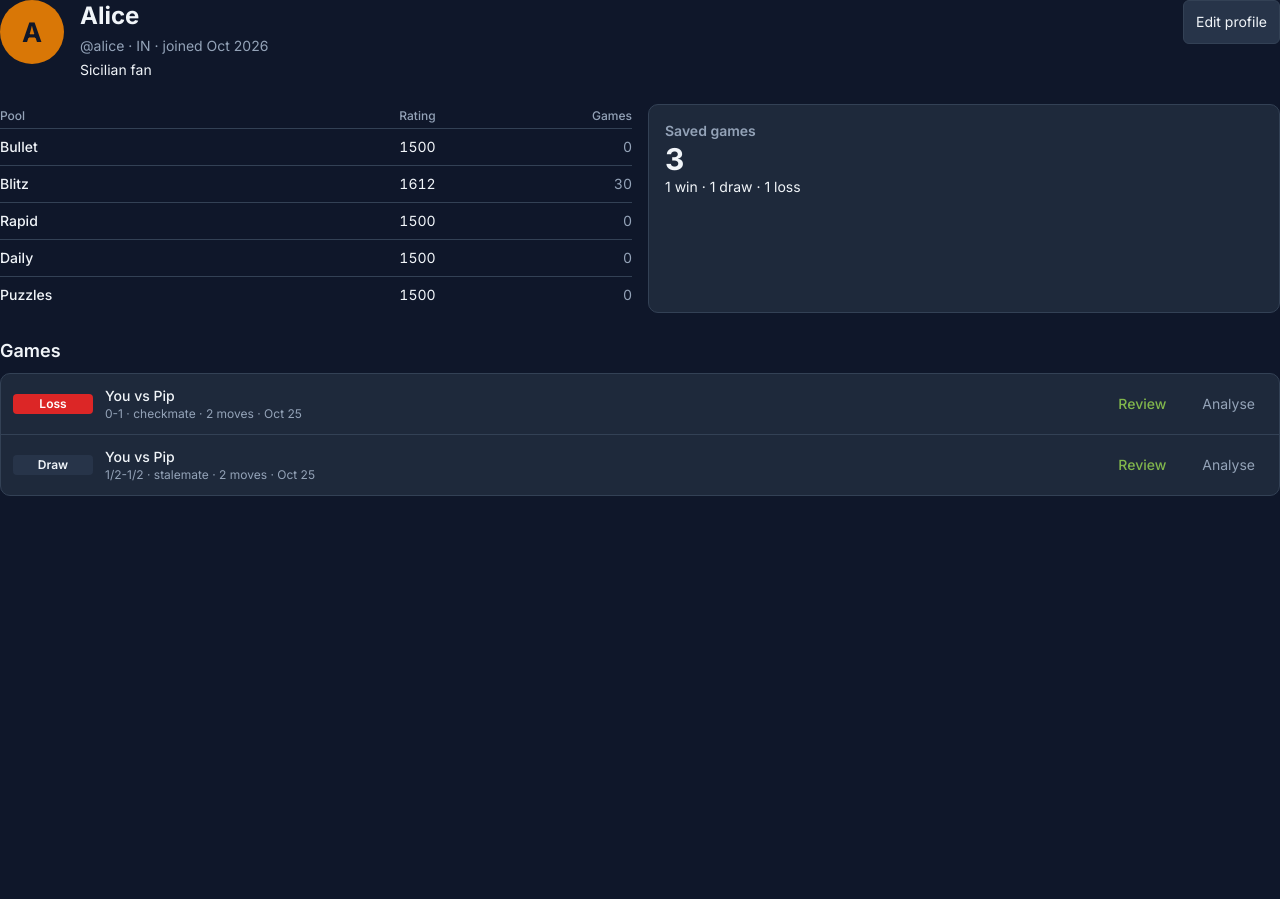
Test: <ProfileView> › lets the owner edit their profile
The width and height of the screenshot is (1280, 899).
Click the button "Edit profile" at [1232, 22], box [1183,0,1279,44]
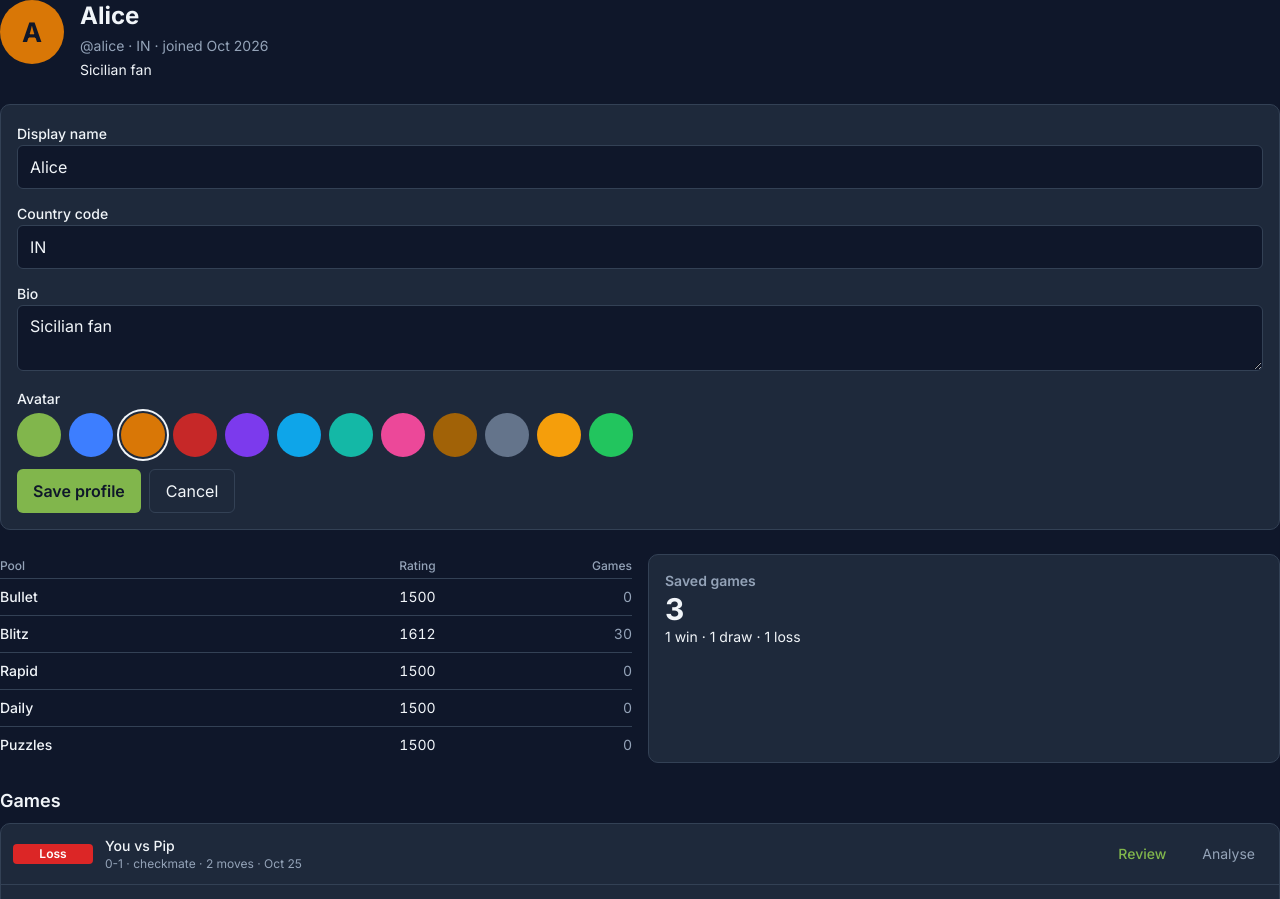
Replace the text in the field labelled "Display name" with "Alice W." at [640, 167], box [17,145,1263,189]
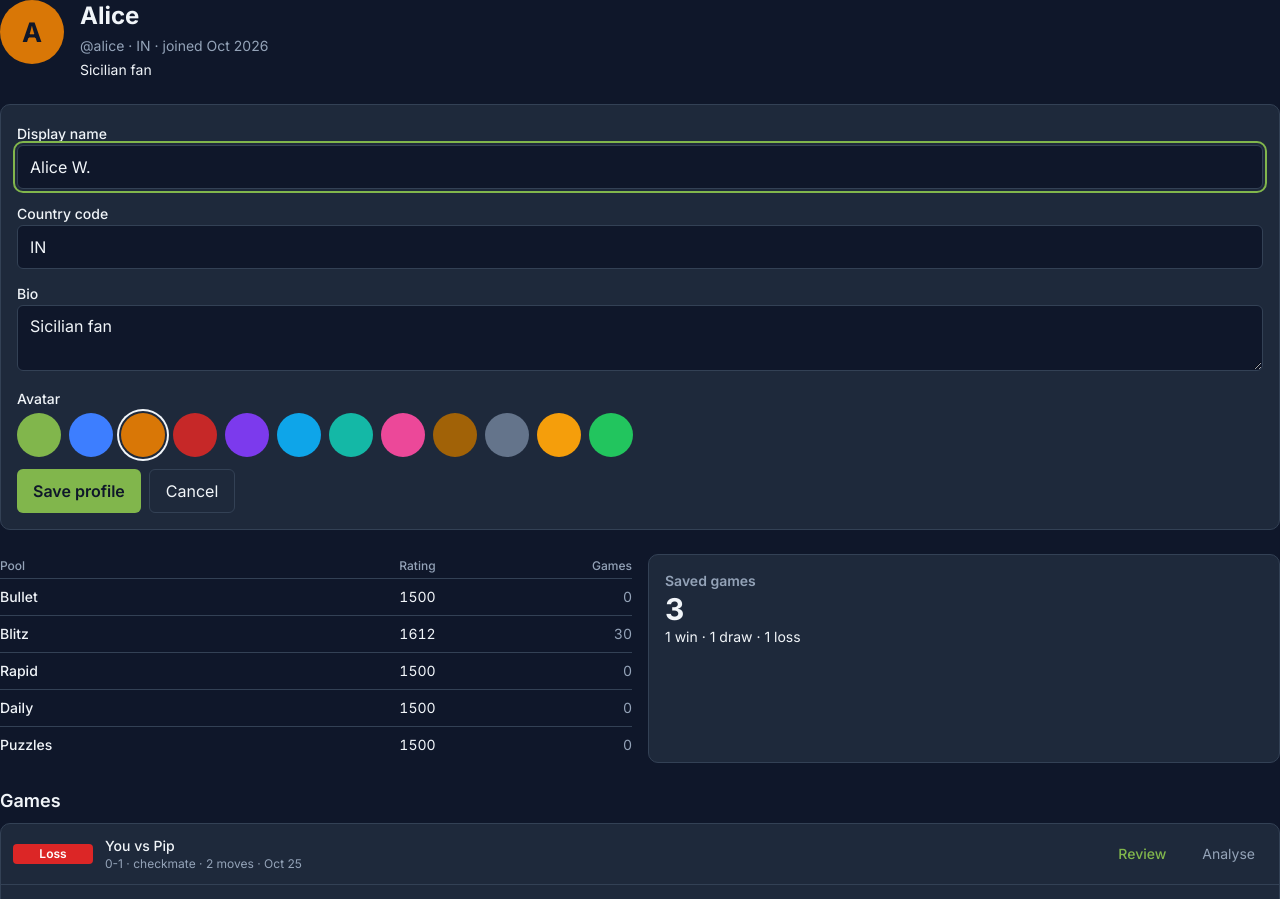
Replace the text in the text box labelled "Bio" with "New bio" at [640, 338], box [17,305,1263,371]
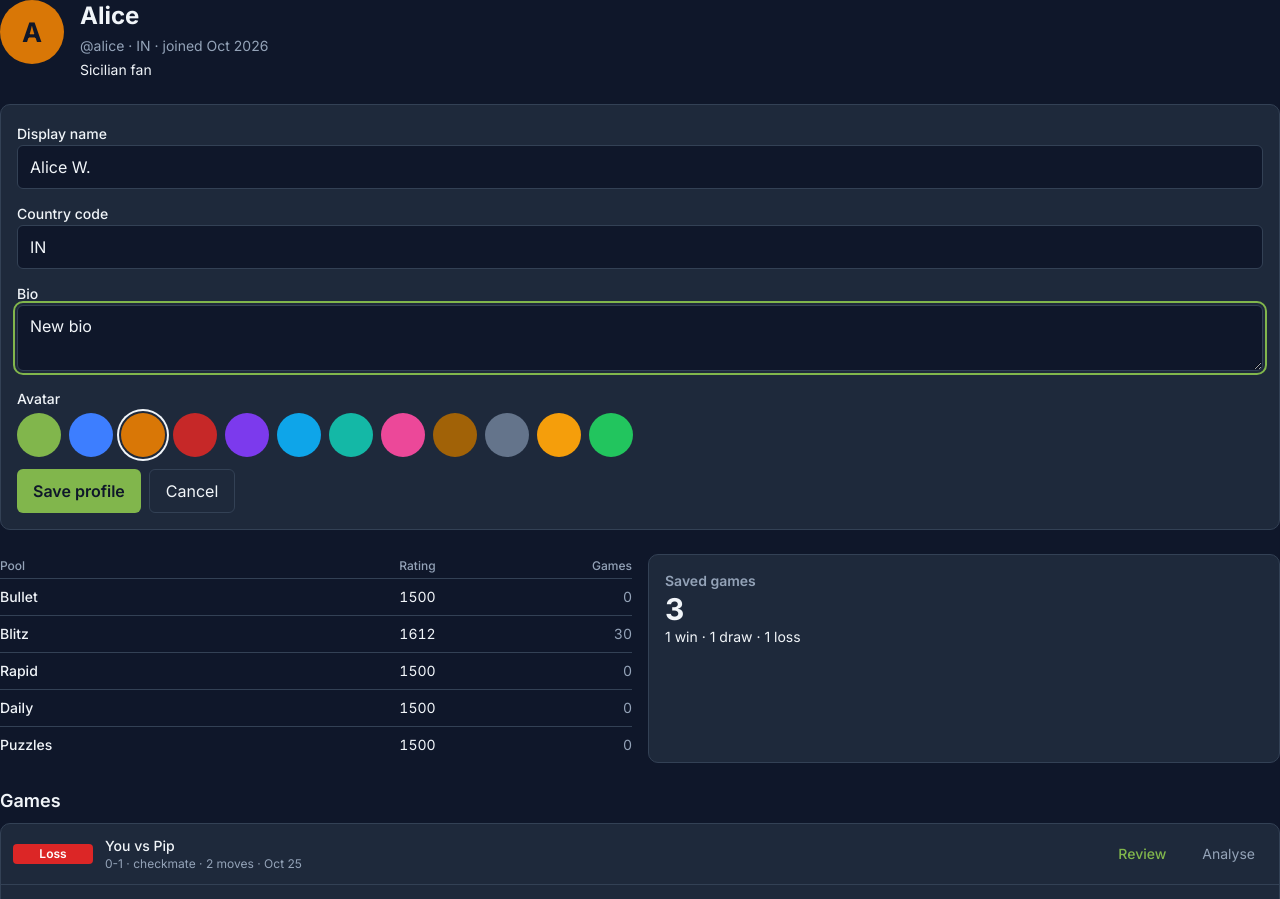
Click the radio button named "Avatar 5" at [247, 435], box [225,413,269,457]
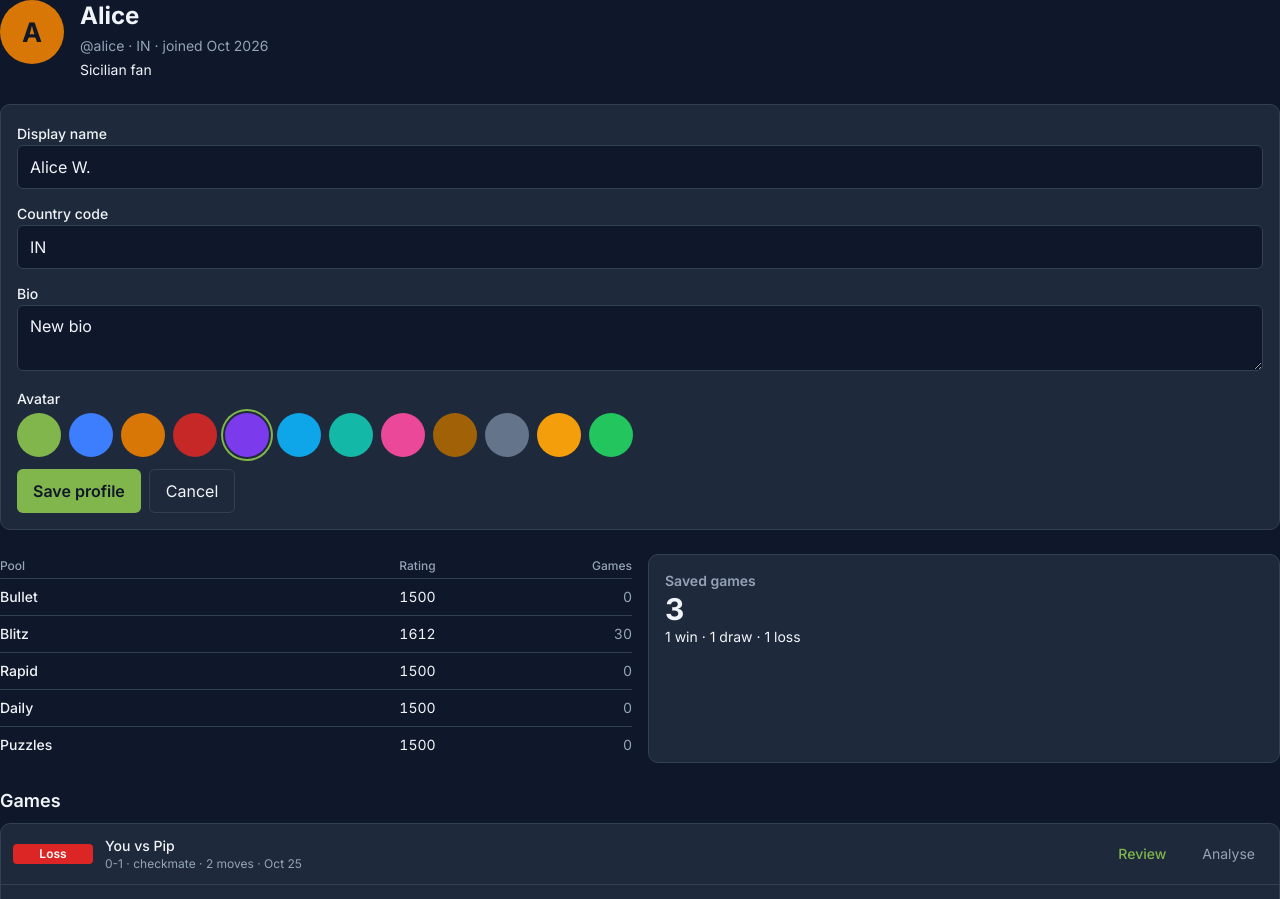
Click the button "Save profile" at [79, 491], box [17,469,141,513]
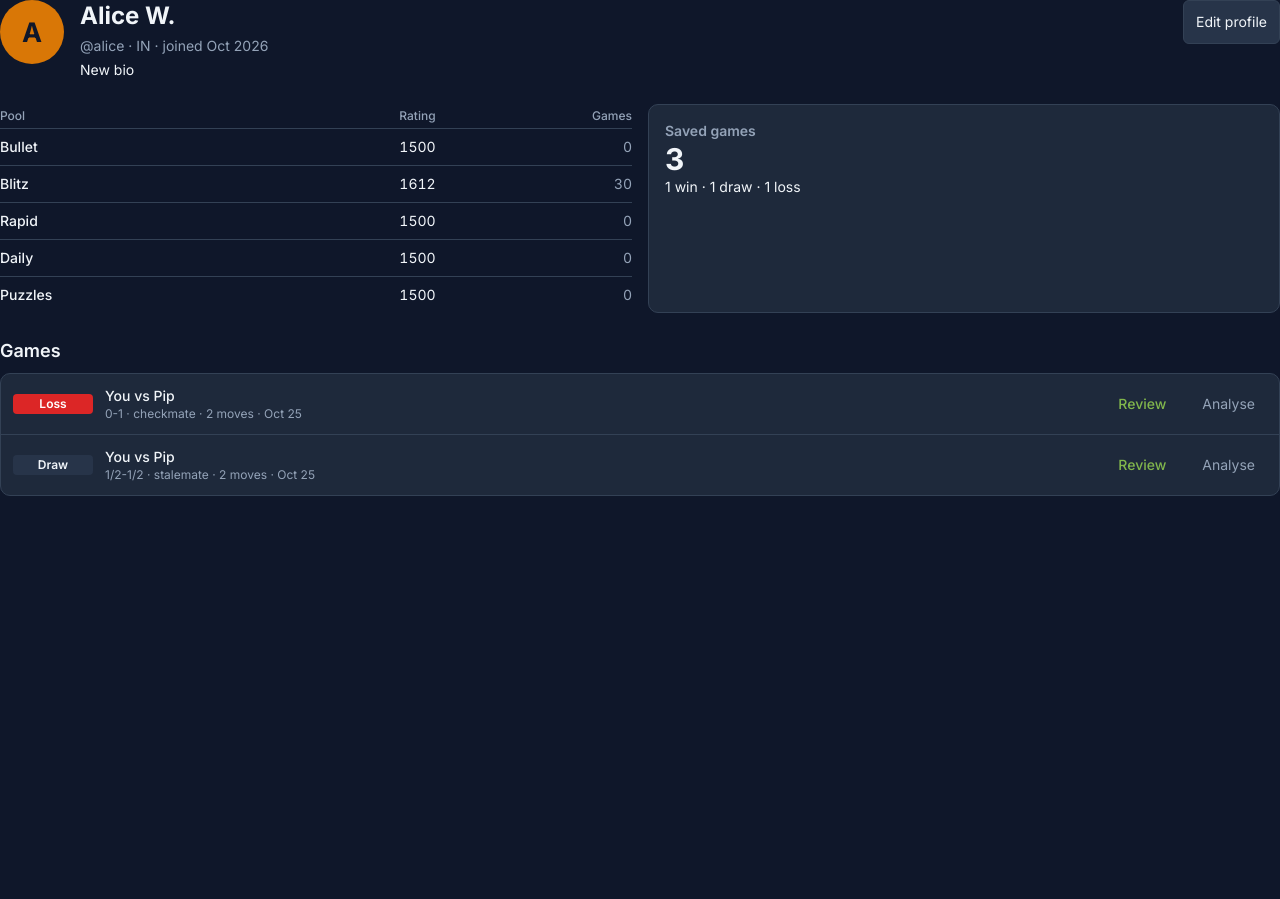
Expected: the heading "Alice W." is shown, [80,1,176,30]
